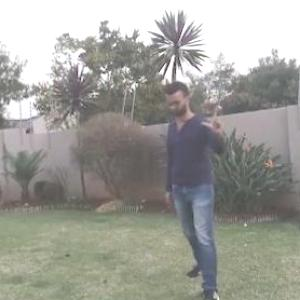land_hand: (199, 104, 230, 134)
